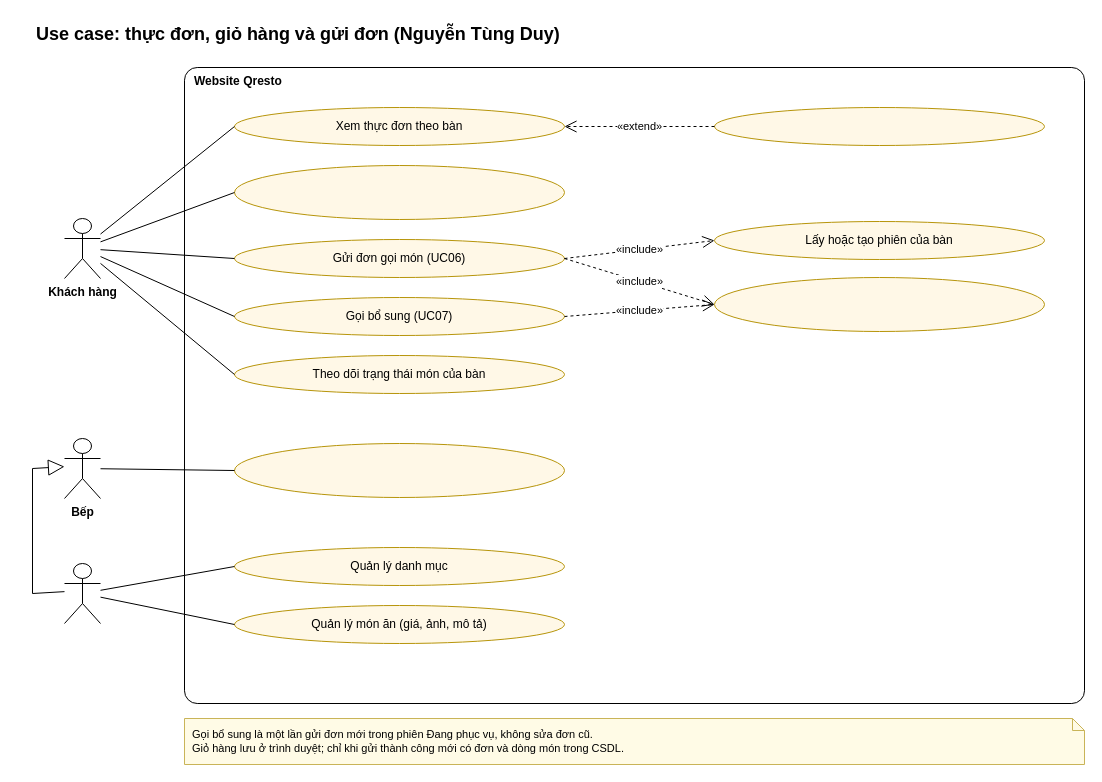
Some shapes in this 1102 by 782 pixel diagram are drawn without their labels. Each missing label, with the centre of its shape:
Kiểm tra món còn bán và giá ở máy chủ: [879,304]
Quản lý: [82,593]
Quản lý giỏ hàng (thêm, sửa số lượng, ghi chú): [399,192]
Tìm kiếm, lọc món theo danh mục: [879,126]
Đổi tình trạng món (Đang bán / Tạm hết): [399,470]
